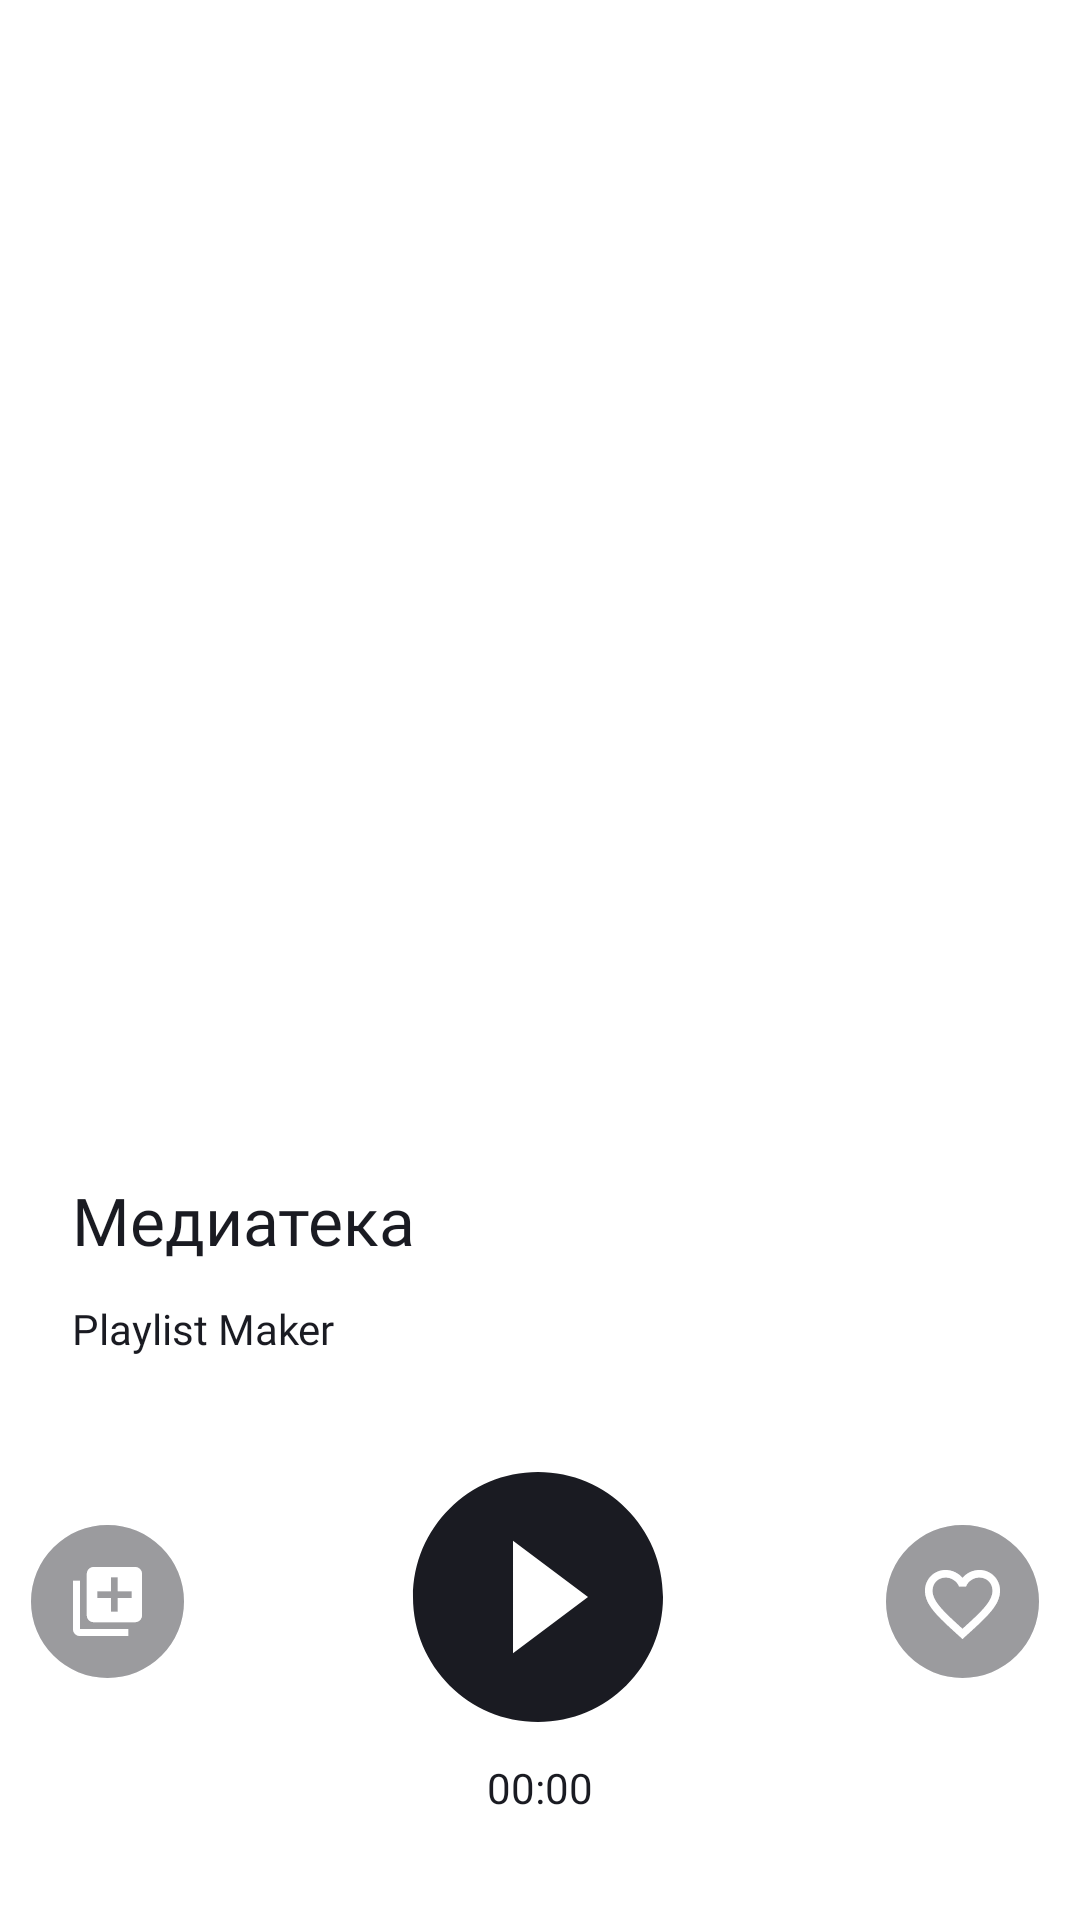

Icons on this 1080 × 1920 Android screen, each with the point to tap as point (x, y):
add to playlist: point (107, 1601)
like: point (962, 1601)
